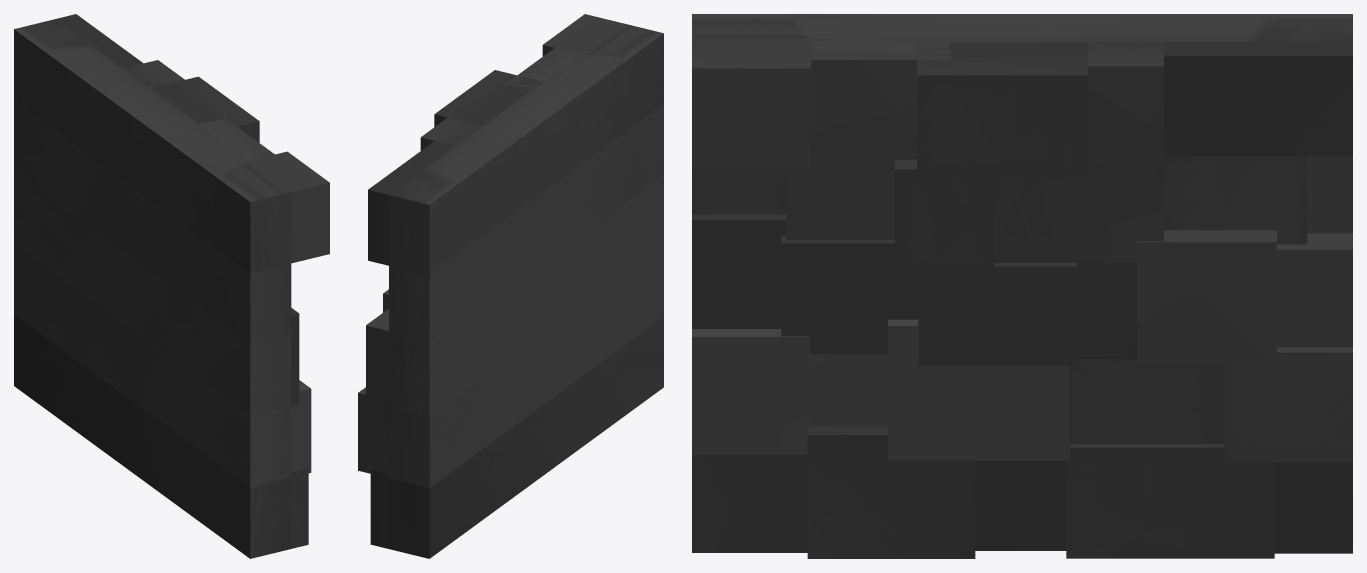
Rendered from Wall (1).fbx.
3 renders of one model, left to right at view 1: azimuth 30°, elevation 25°; view 2: azimuth 150°, elevation 25°; view 3: azimuth 270°, elevation 25°, orthographic. The views are drawn at different scales.
Visible parts, largest first — view 1: Cube.004; view 2: Cube.004; view 3: Cube.004.
Boxes of the visible parts, x1,y1,x2,y2 form: Cube.004: [14, 14, 329, 558]; Cube.004: [358, 14, 663, 558]; Cube.004: [692, 14, 1352, 558].
Bounding box in the file's own units: 220 × 833 × 1000.
